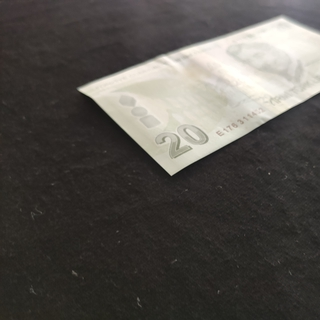20TLBack: (76, 14, 320, 176)
